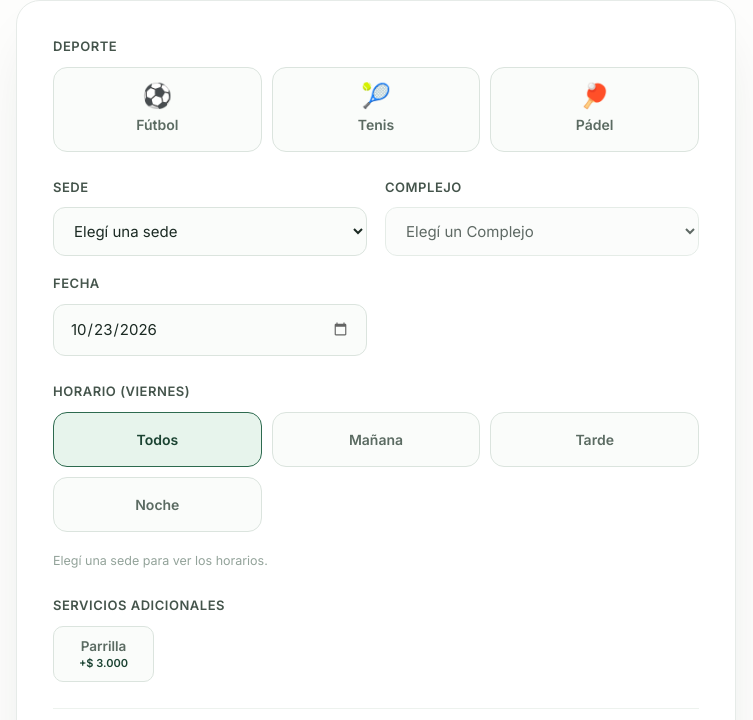
Test: BookingForm › cuando el día elegido no tiene turnos, dice cuáles sí los tienen
This screenshot has width=753, height=720.
Click the button "⚽ Fútbol". click: (157, 109)
box: [53,66,262,152]
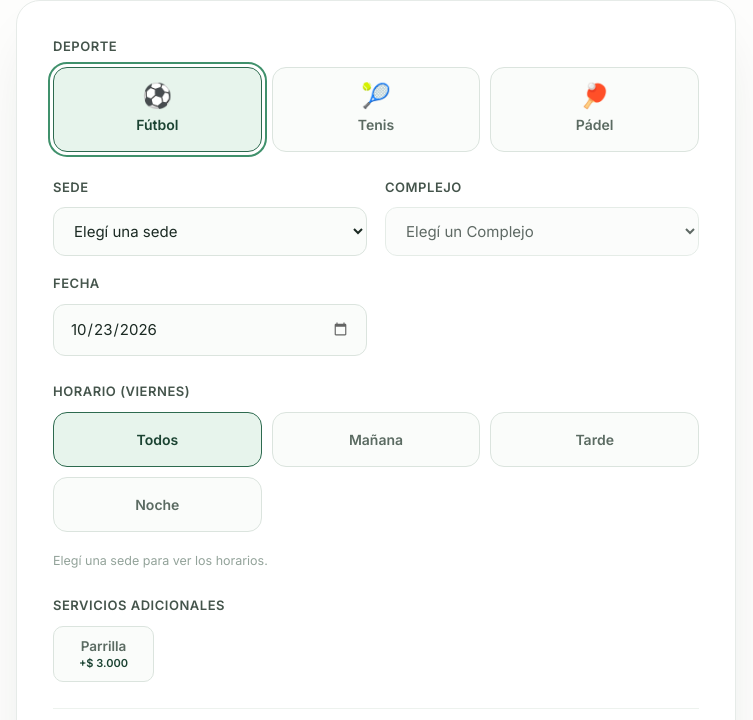
Select "Rosario" in the dropdown labelled "Sede". click: (210, 232)
box: [53,207,367,256]
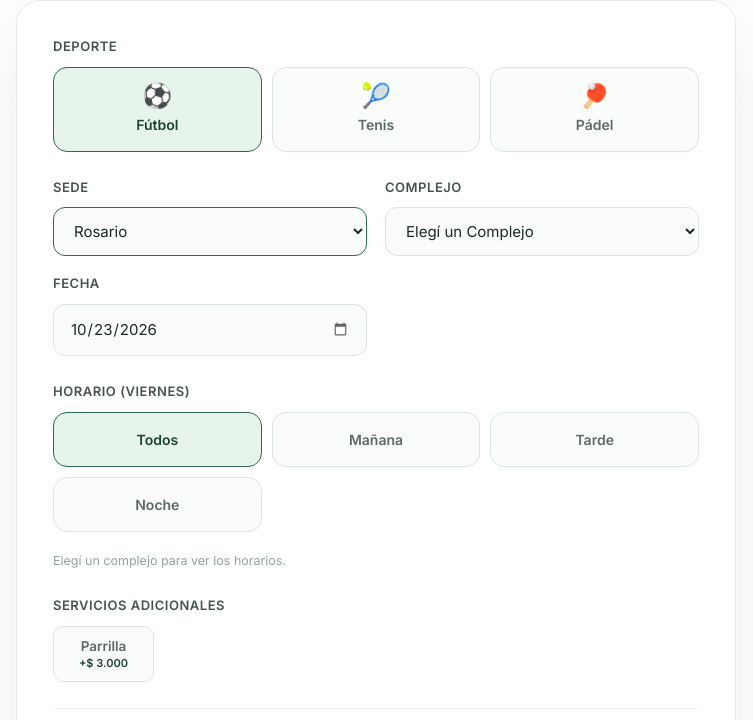
Select "Rosario Sport Center" in the dropdown labelled "Complejo". click: (542, 232)
box: [385,207,699,256]
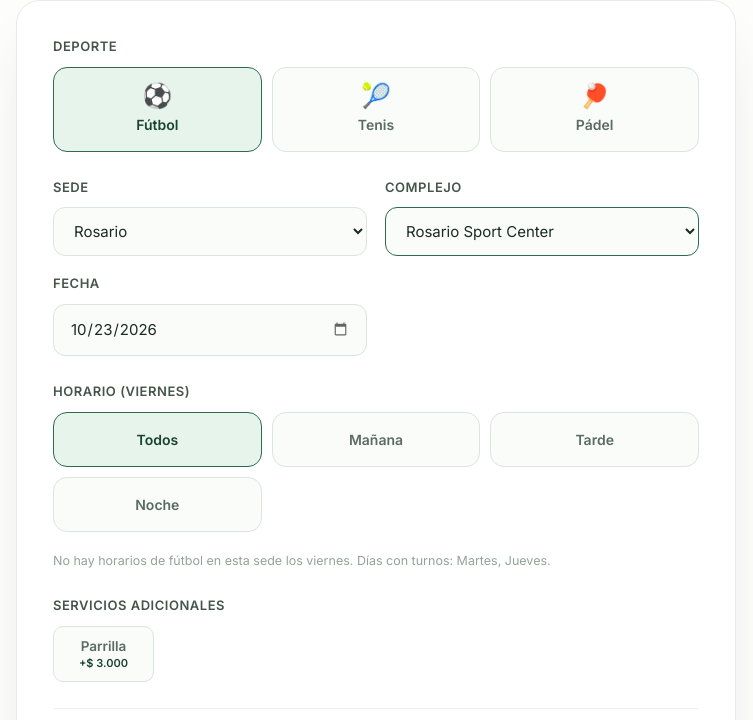
Type "2026-09-09" into the date field labelled "Fecha". click: (210, 330)
box: [53,304,367,356]
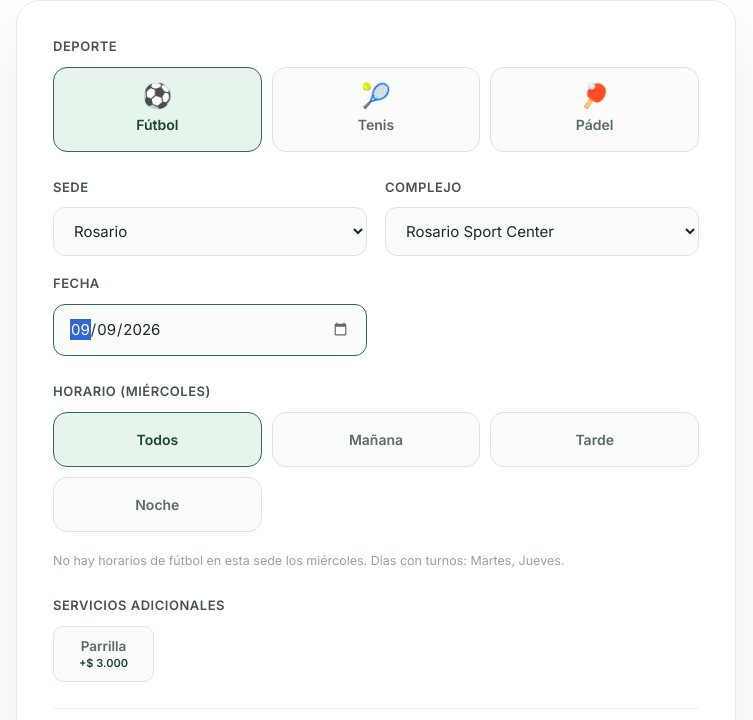
Check: the text "No hay horarios de fútbol" shows "Días con turnos: Martes, Jueves", box [367,552,564,568]
